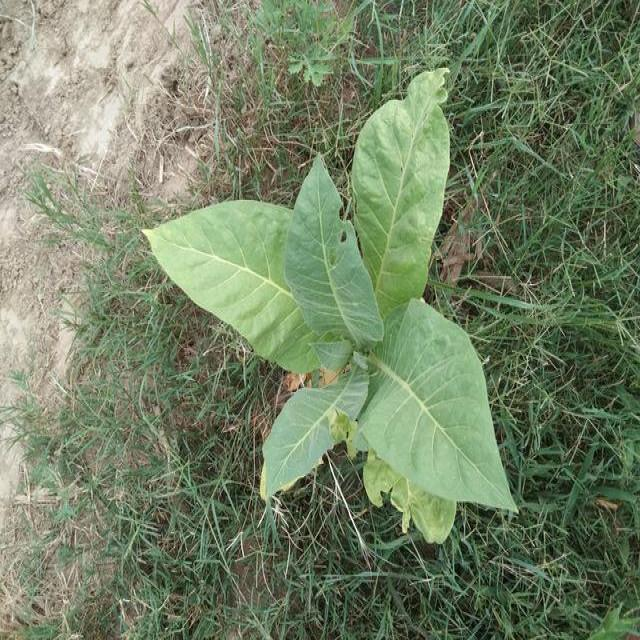crop: (123, 62, 524, 543)
